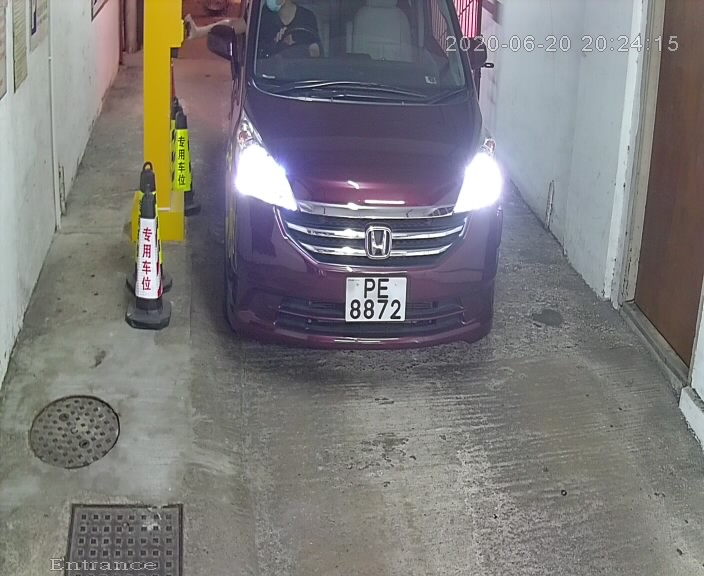privatecar: (188, 2, 518, 392)
